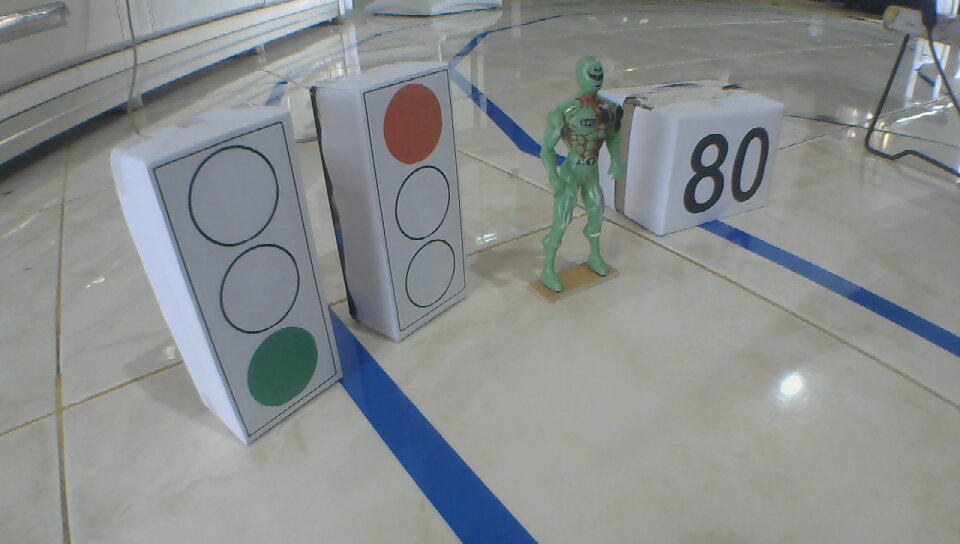Green Light: (187, 143, 319, 409)
Person: (538, 54, 625, 295)
Red Light: (379, 81, 456, 310)
Speed 80: (681, 124, 770, 214)
